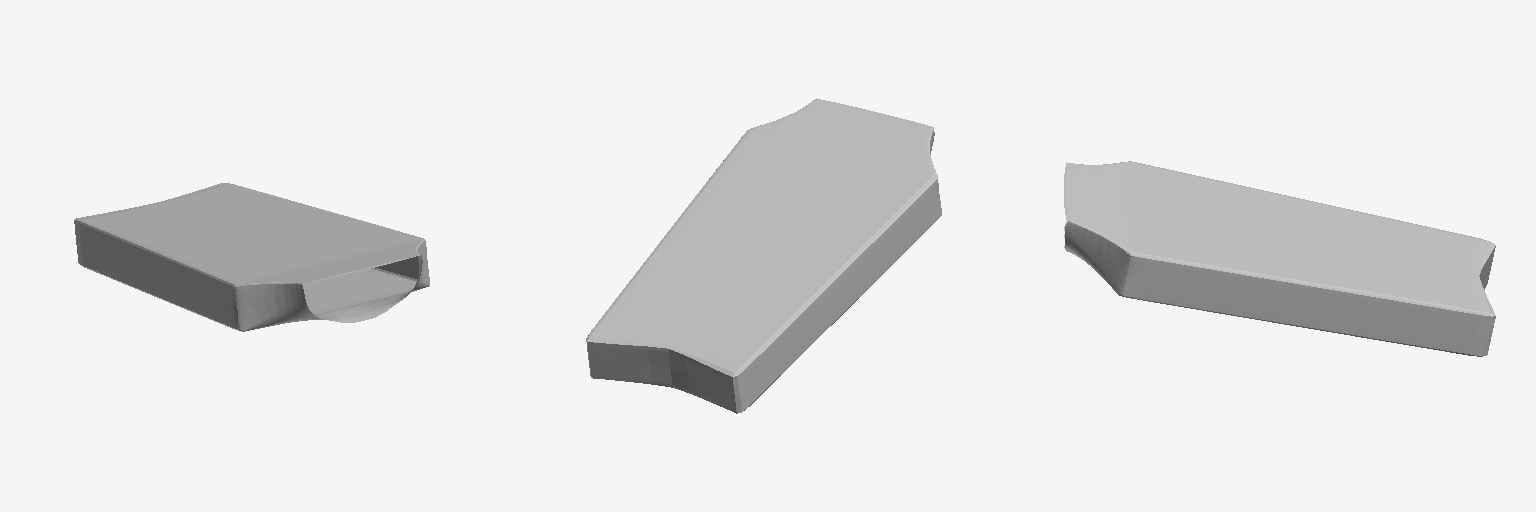
File: S_manico1.obj
3 views of the same model, side by side, from view 1: azimuth 30°, elevation 25°; view 2: azimuth 150°, elevation 25°; view 3: azimuth 270°, elevation 25° (orthographic).
Parts seen in each view (by area): view 1: manico1; view 2: manico1; view 3: manico1.
Part boxes in pixels (x1,y1,x2,y2): manico1: (74, 183, 429, 331); manico1: (586, 98, 941, 413); manico1: (1064, 161, 1495, 356).
Bounding box in the file's own units: 0.0747 × 0.0484 × 0.1458.